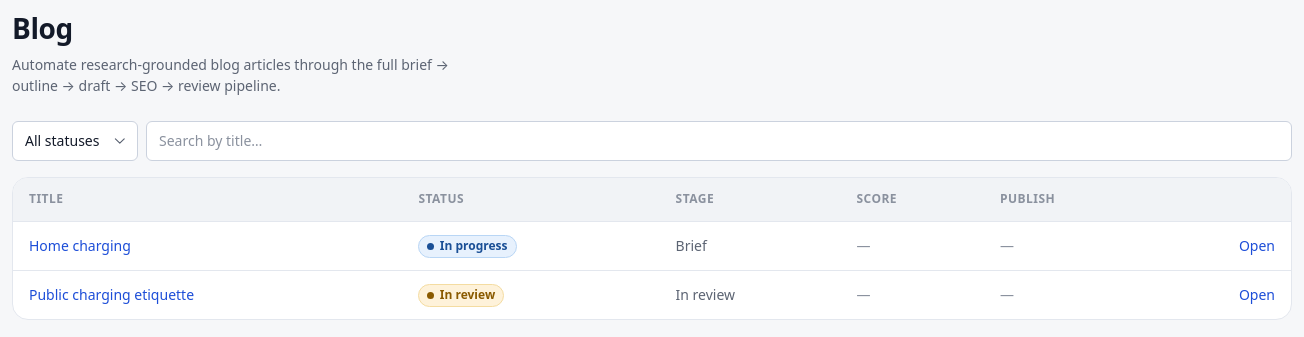
Test: BlogList › filters by status and searches by title
expect the link "Home charging" is shown: met, box [29, 236, 131, 255]
Select "In review" in the dropdown named "Filter blog articles by status" at {"x": 75, "y": 141}, box [12, 121, 138, 161]
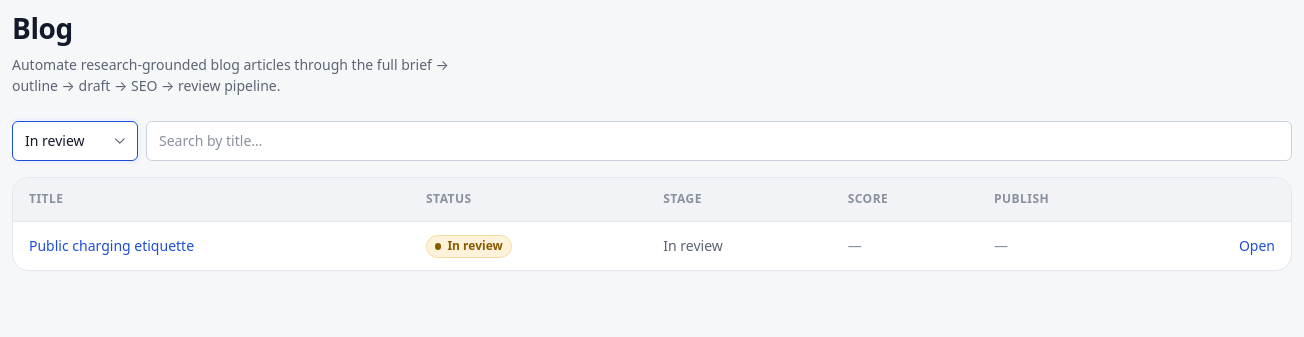
expect the link "Public charging etiquette" is shown: met, box [29, 236, 194, 255]
expect the link "Home charging" is gone: met
Select "All statuses" in the dropdown named "Filter blog articles by status" at {"x": 75, "y": 141}, box [12, 121, 138, 161]
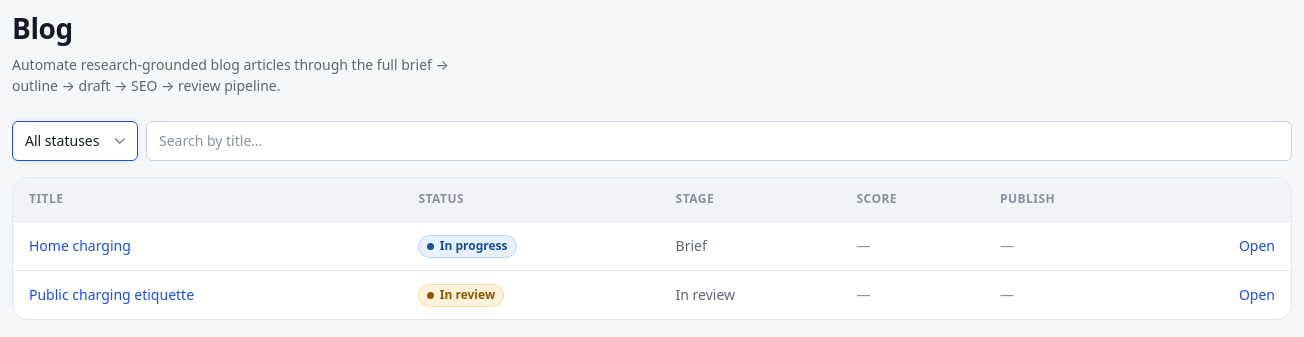
Type "etiquette" into the search field named "Search blog articles by title".
click(719, 141); type("etiquette")  # box [146, 121, 1292, 161]
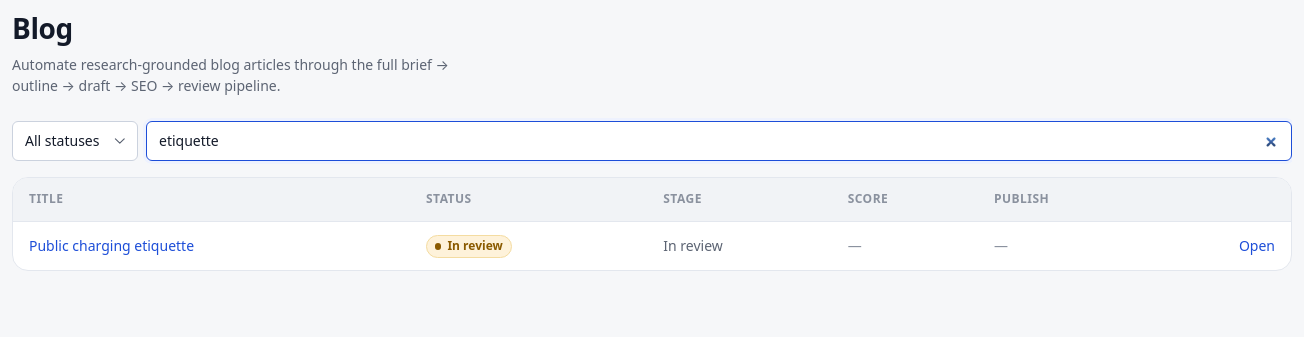
expect the link "Public charging etiquette" is shown: met, box [29, 236, 194, 255]
expect the link "Home charging" is gone: met
